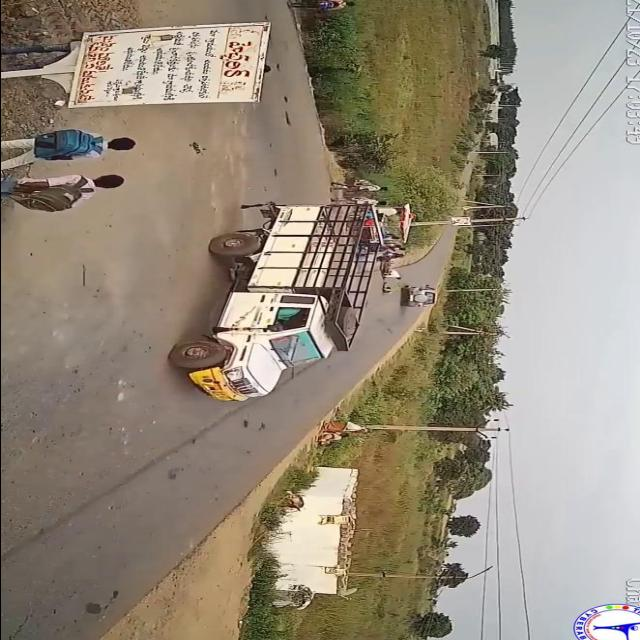accident: (372, 258, 436, 310)
